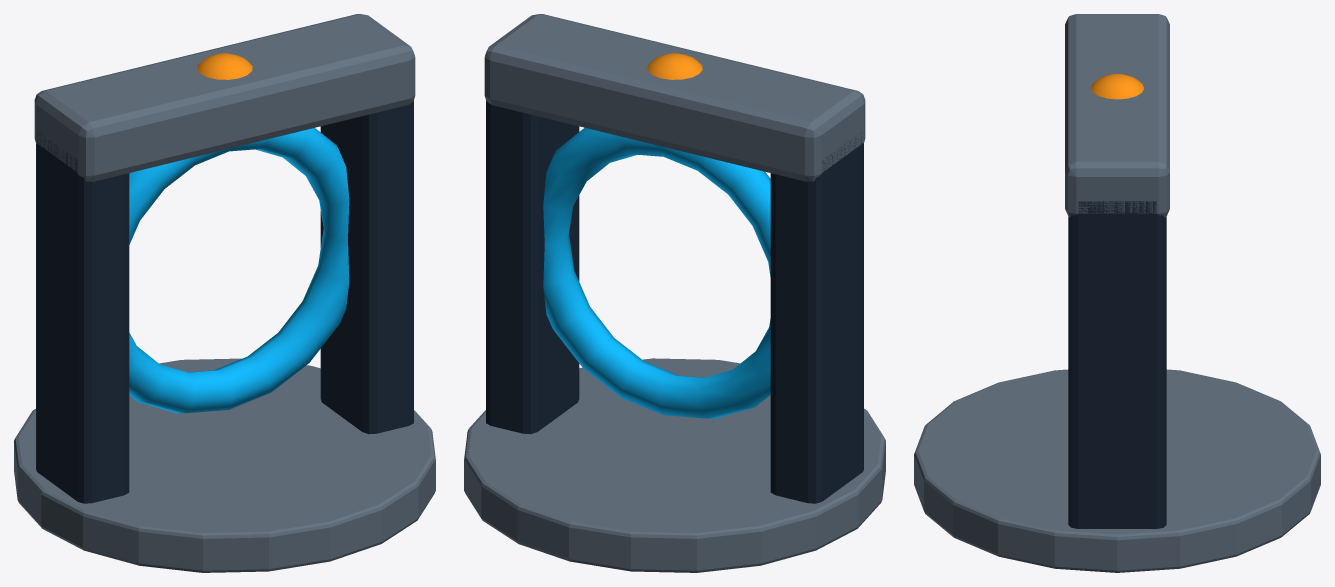
The model's file is goal_portal.obj.
The picture shows the model from 3 angles, left to right: view 1: azimuth 30°, elevation 25°; view 2: azimuth 150°, elevation 25°; view 3: azimuth 270°, elevation 25°; orthographic projection. The views are drawn at different scales.
Parts seen in each view (by area): view 1: portal_base_M_stone, portal_crown_M_stone, portal_pillar_r_M_gunmetal, portal_pillar_l_M_gunmetal, portal_field_M_cyan, portal_keystone_M_gold; view 2: portal_base_M_stone, portal_crown_M_stone, portal_pillar_r_M_gunmetal, portal_pillar_l_M_gunmetal, portal_field_M_cyan, portal_keystone_M_gold; view 3: portal_base_M_stone, portal_pillar_l_M_gunmetal, portal_crown_M_stone, portal_keystone_M_gold.
Boxes of the visible parts, bbox=[...] form: portal_base_M_stone: bbox=[14, 358, 435, 572]; portal_crown_M_stone: bbox=[34, 14, 415, 181]; portal_pillar_r_M_gunmetal: bbox=[36, 131, 129, 503]; portal_pillar_l_M_gunmetal: bbox=[320, 100, 413, 434]; portal_field_M_cyan: bbox=[129, 128, 349, 413]; portal_keystone_M_gold: bbox=[197, 53, 252, 79]; portal_base_M_stone: bbox=[464, 358, 885, 572]; portal_crown_M_stone: bbox=[484, 14, 865, 181]; portal_pillar_r_M_gunmetal: bbox=[770, 132, 863, 503]; portal_pillar_l_M_gunmetal: bbox=[486, 100, 579, 434]; portal_field_M_cyan: bbox=[543, 127, 770, 418]; portal_keystone_M_gold: bbox=[647, 53, 702, 79]; portal_base_M_stone: bbox=[914, 369, 1320, 572]; portal_pillar_l_M_gunmetal: bbox=[1068, 201, 1166, 528]; portal_crown_M_stone: bbox=[1065, 14, 1169, 217]; portal_keystone_M_gold: bbox=[1090, 74, 1144, 99].
Bounding box in the file's own units: 1.16 × 1.29 × 1.16.
